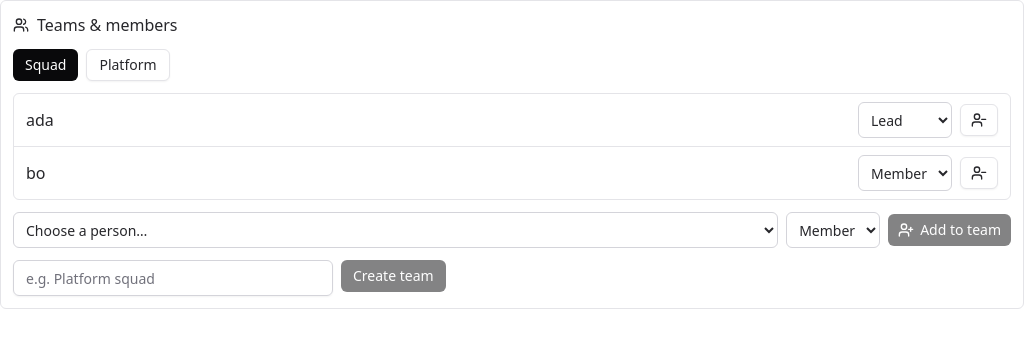
Scenario: OrganizationTeamsPanel as an admin › shows the server’s reason when a change is refused
Click the button named "Remove bo from Squad" at (979, 173), box x1=960 y1=157 x2=998 y2=189
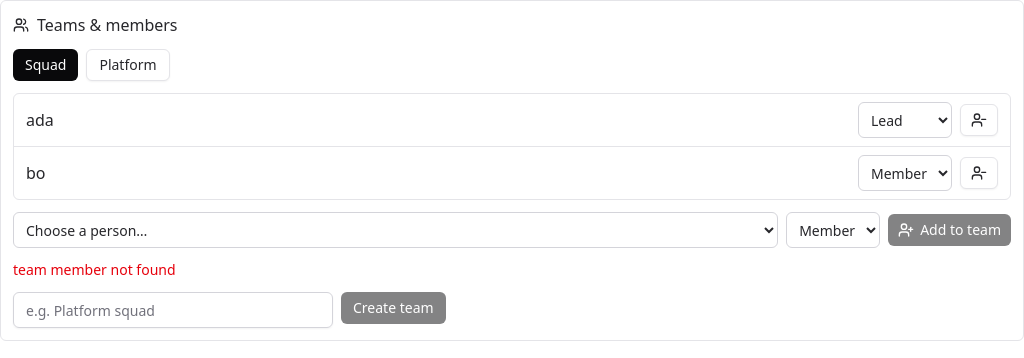
Expected: the message reads "team member not found", x1=13 y1=260 x2=176 y2=279
